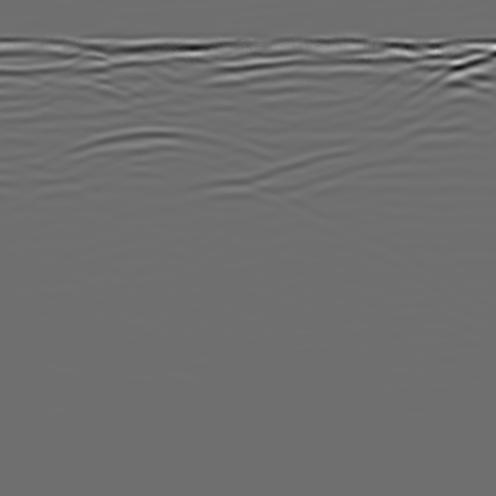hyperbola: (30, 117, 293, 213)
